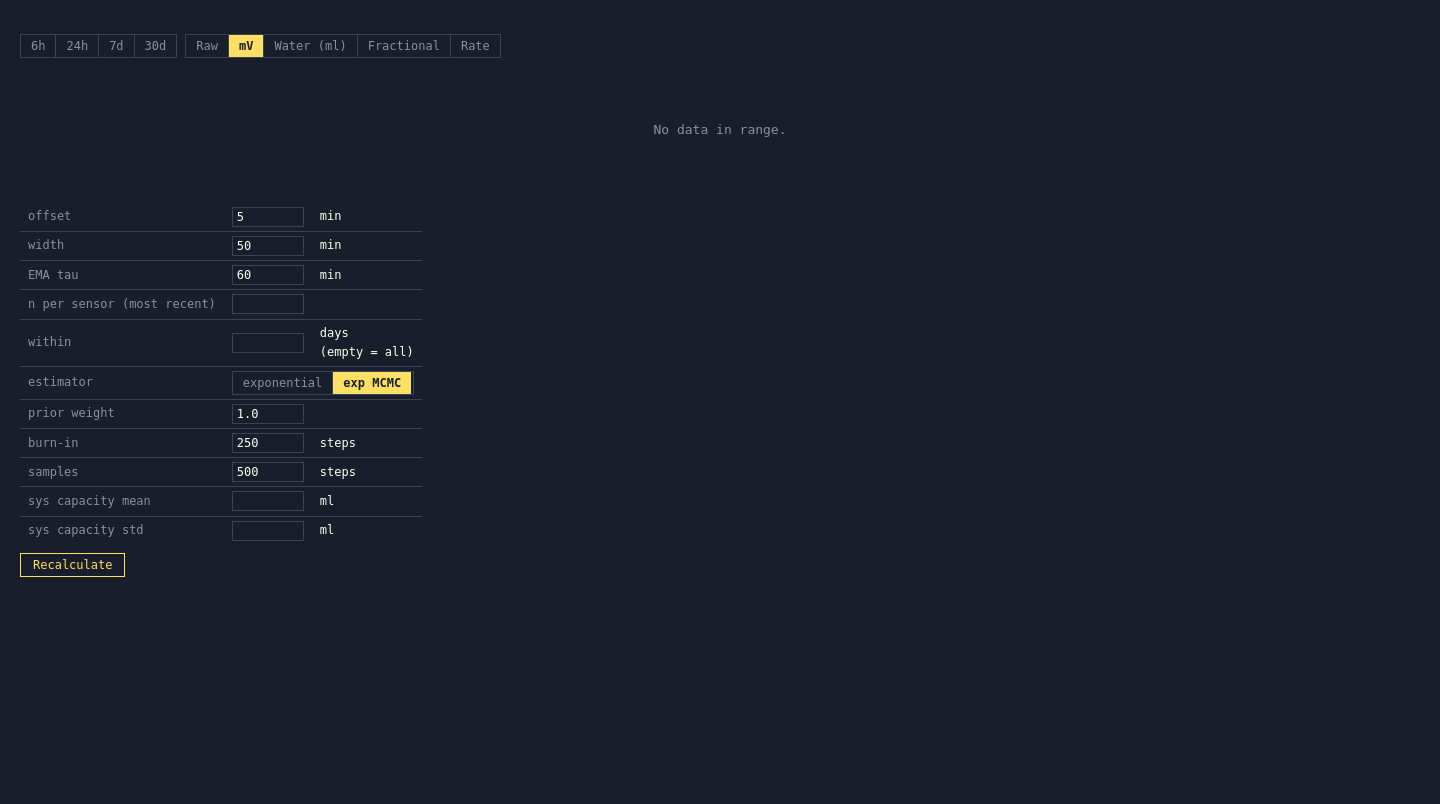
it: SensorsPane error handling › shows water chart when calibError set but mappedSeries has data
The width and height of the screenshot is (1440, 804).
Click the button "Water (ml)" at (311, 46), box x1=264 y1=35 x2=358 y2=57
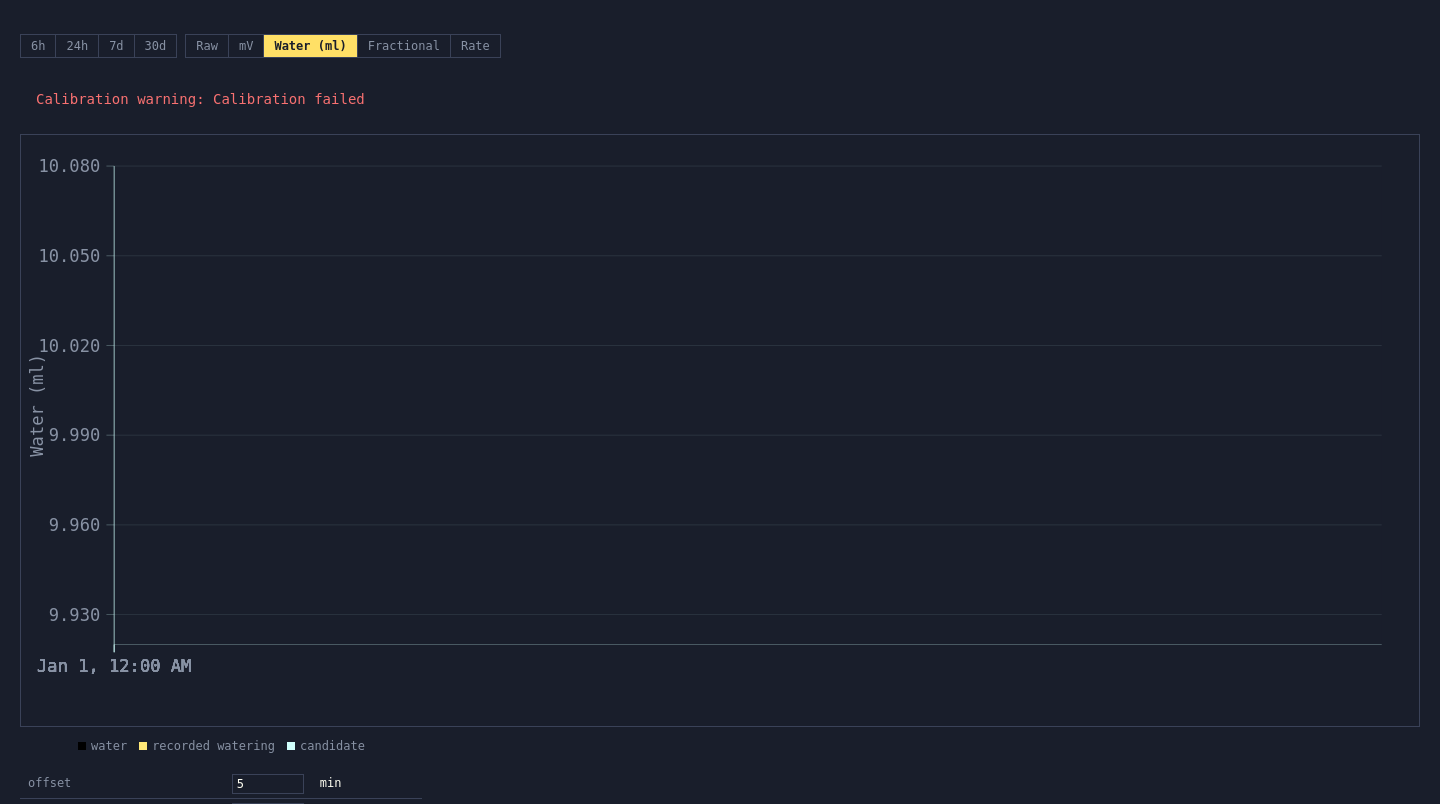
Now the text "Calibration warning: Calibration failed" is shown, box x1=36 y1=91 x2=365 y2=107
